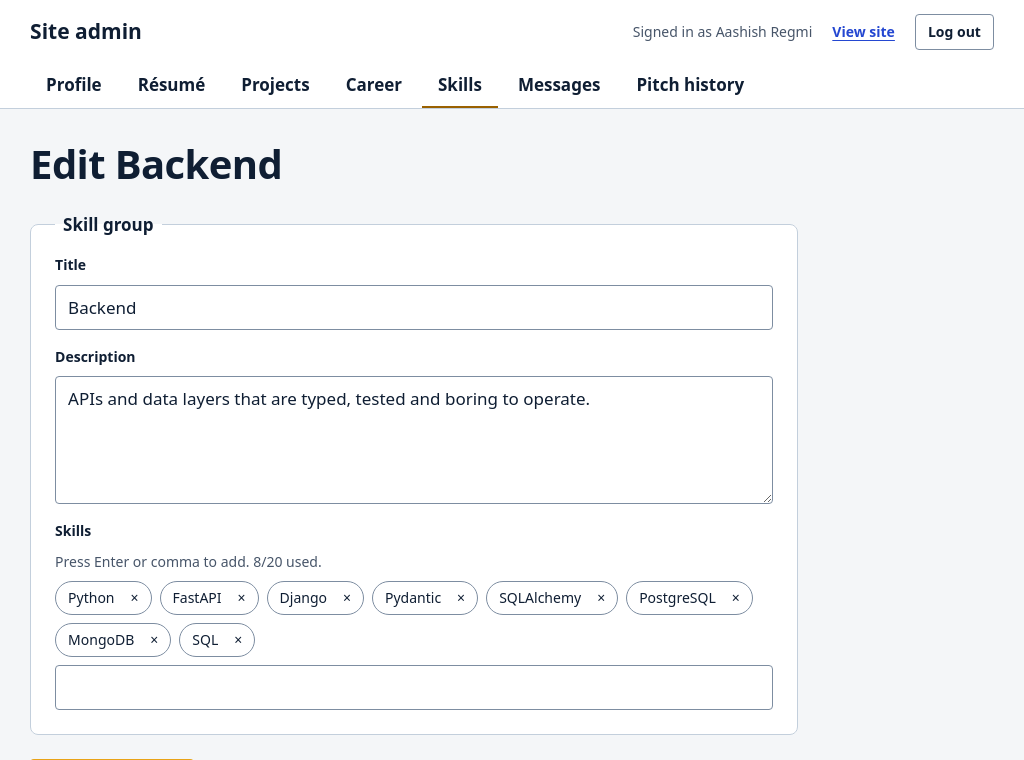
Test: career and skills › removes a skill chip with its button
Click the button named "Remove Python" at {"x": 134, "y": 598}, box [118, 582, 150, 614]
(page scrolled)
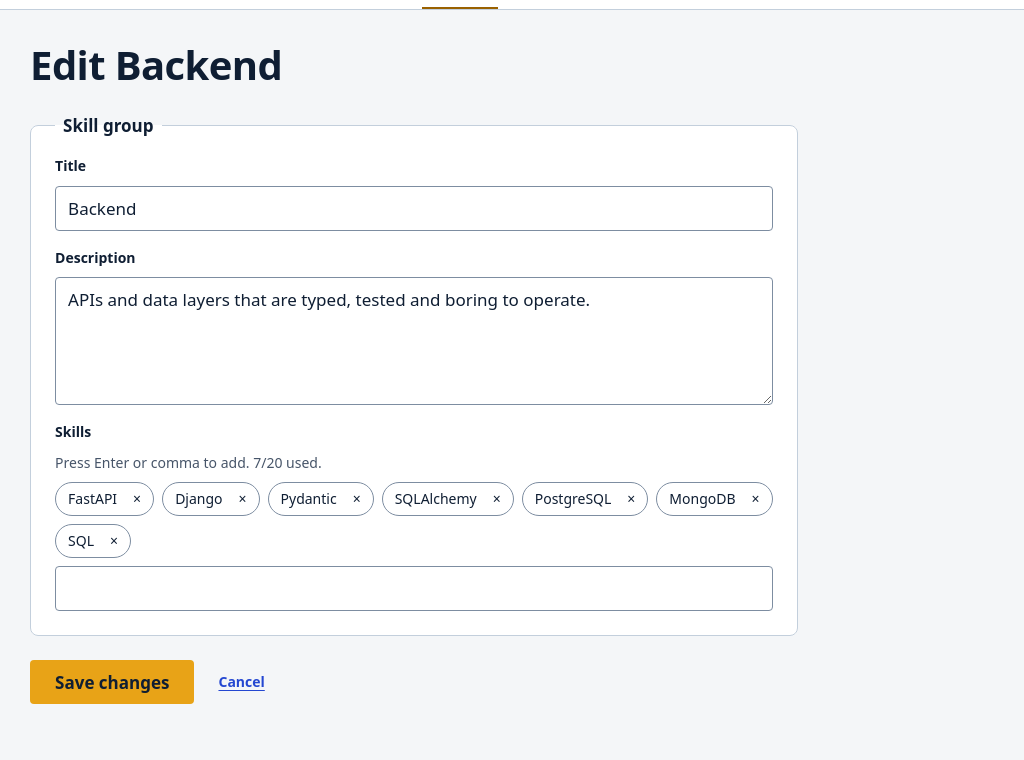
Click the button "Save changes" at {"x": 112, "y": 682}, box [30, 660, 194, 704]
(page scrolled)
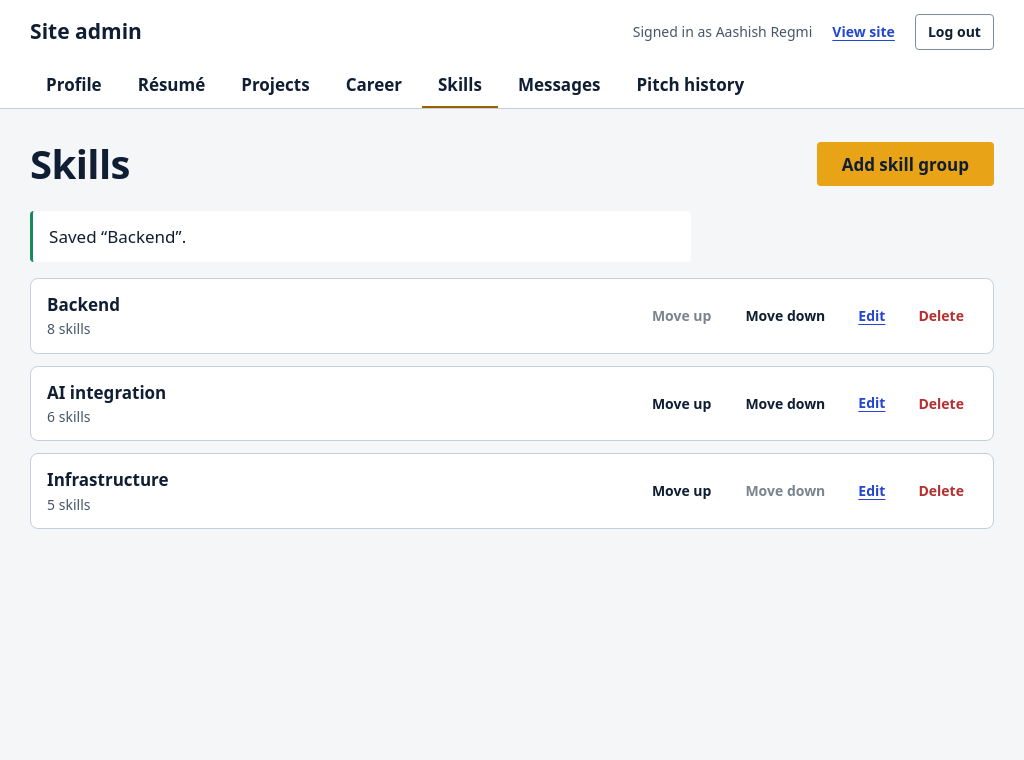
Result: the text "Saved “Backend”." is shown at [30, 211, 691, 262]
